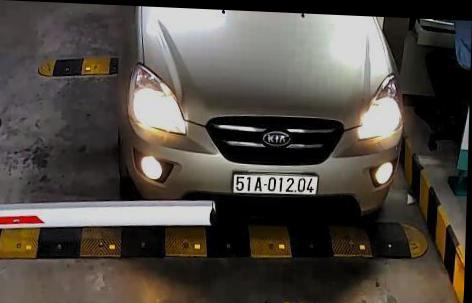License_Plate: (229, 167, 321, 201)
